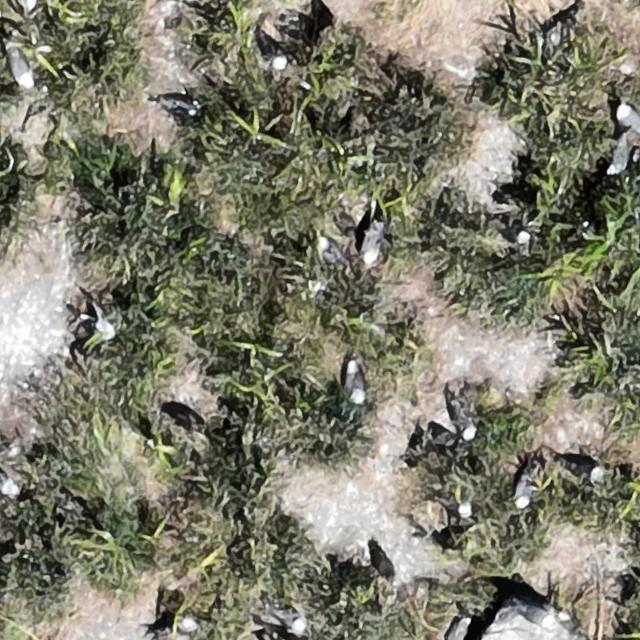umineko: (516, 601, 555, 631), (150, 617, 198, 637), (261, 37, 289, 71), (88, 309, 115, 342), (273, 608, 308, 632), (10, 49, 30, 85), (363, 230, 383, 264), (346, 365, 364, 402), (505, 223, 533, 246), (563, 460, 595, 480), (617, 106, 638, 132), (446, 618, 467, 640), (516, 480, 533, 506), (462, 415, 477, 440)
